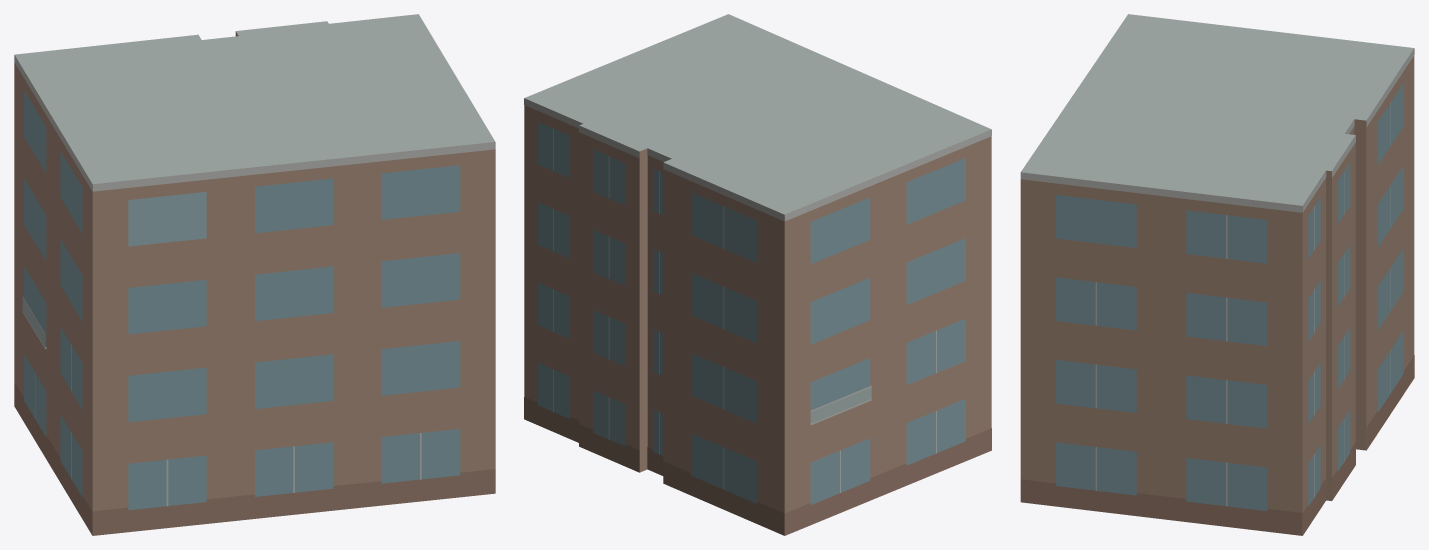
File: survey-upis-32964950.glb
The picture shows the model from 3 angles, left to right: view 1: azimuth 30°, elevation 25°; view 2: azimuth 150°, elevation 25°; view 3: azimuth 270°, elevation 25°; orthographic projection. The views are drawn at different scales.
Visible parts, largest first — view 1: survey-upis-32964950.tmp; view 2: survey-upis-32964950.tmp; view 3: survey-upis-32964950.tmp.
Part boxes in pixels (bbox=[...]): survey-upis-32964950.tmp: bbox=[14, 14, 495, 535]; survey-upis-32964950.tmp: bbox=[524, 14, 991, 535]; survey-upis-32964950.tmp: bbox=[1020, 14, 1414, 535].
Bounding box in the file's own units: 14.48 × 11.6 × 12.56.
